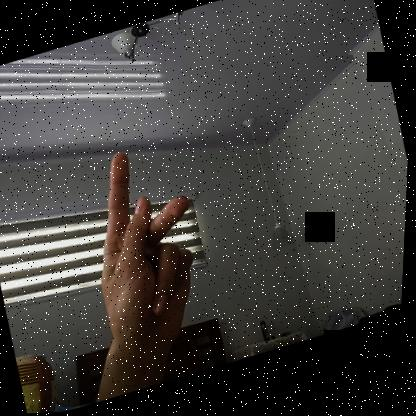K: (68, 133, 229, 352)
